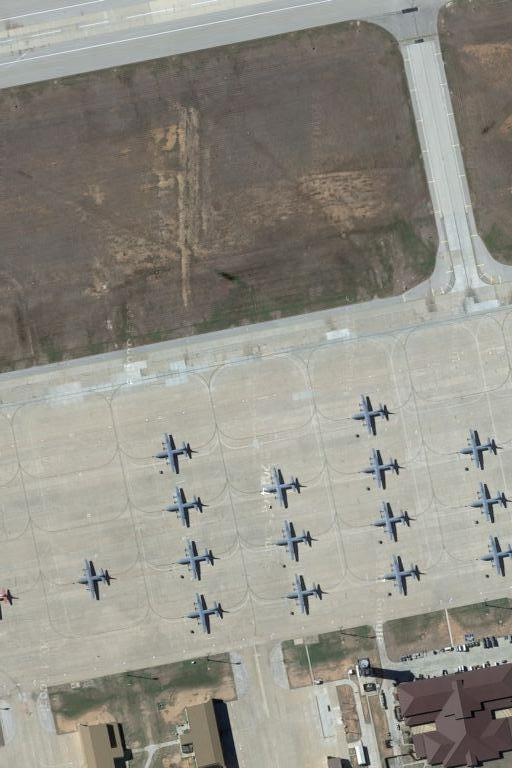C-130: (269, 518, 318, 565), (359, 445, 407, 492), (182, 592, 230, 639), (163, 486, 209, 533), (457, 424, 501, 473), (351, 392, 394, 442), (72, 556, 118, 602), (368, 501, 415, 546), (379, 552, 426, 597), (175, 541, 221, 585), (262, 462, 304, 510), (152, 432, 200, 474), (283, 571, 325, 617), (470, 480, 510, 525), (479, 534, 509, 578)
